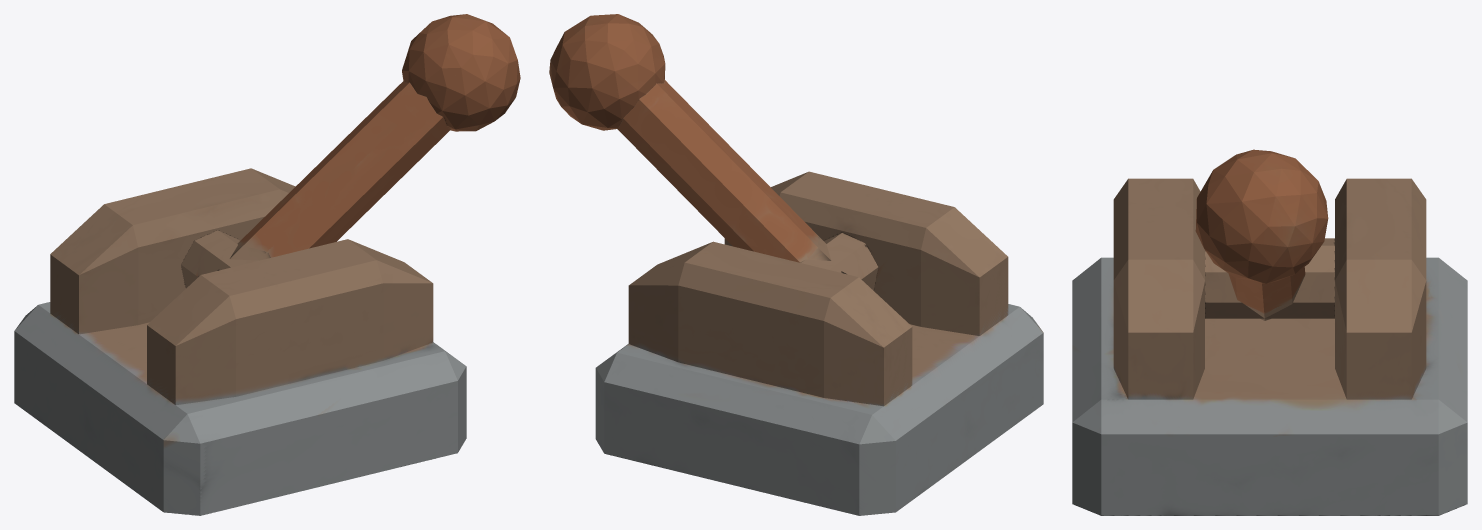
Rendered from Lever.fbx.
The picture shows the model from 3 angles, left to right: view 1: azimuth 30°, elevation 25°; view 2: azimuth 150°, elevation 25°; view 3: azimuth 270°, elevation 25°; orthographic projection. The views are drawn at different scales.
Visible parts, largest first — view 1: Lever, Handle, Base; view 2: Lever, Handle, Base; view 3: Lever, Handle, Base.
Boxes of the visible parts, <box> form: Lever: <box>14,168,466,515</box>; Handle: <box>217,14,520,270</box>; Base: <box>181,230,258,288</box>; Lever: <box>595,171,1043,515</box>; Handle: <box>549,14,846,274</box>; Base: <box>800,233,878,290</box>; Lever: <box>1072,178,1467,515</box>; Handle: <box>1195,149,1328,320</box>; Base: <box>1205,238,1334,318</box>.
Size of the model in its own units: 123 by 85.53 by 94.72.
